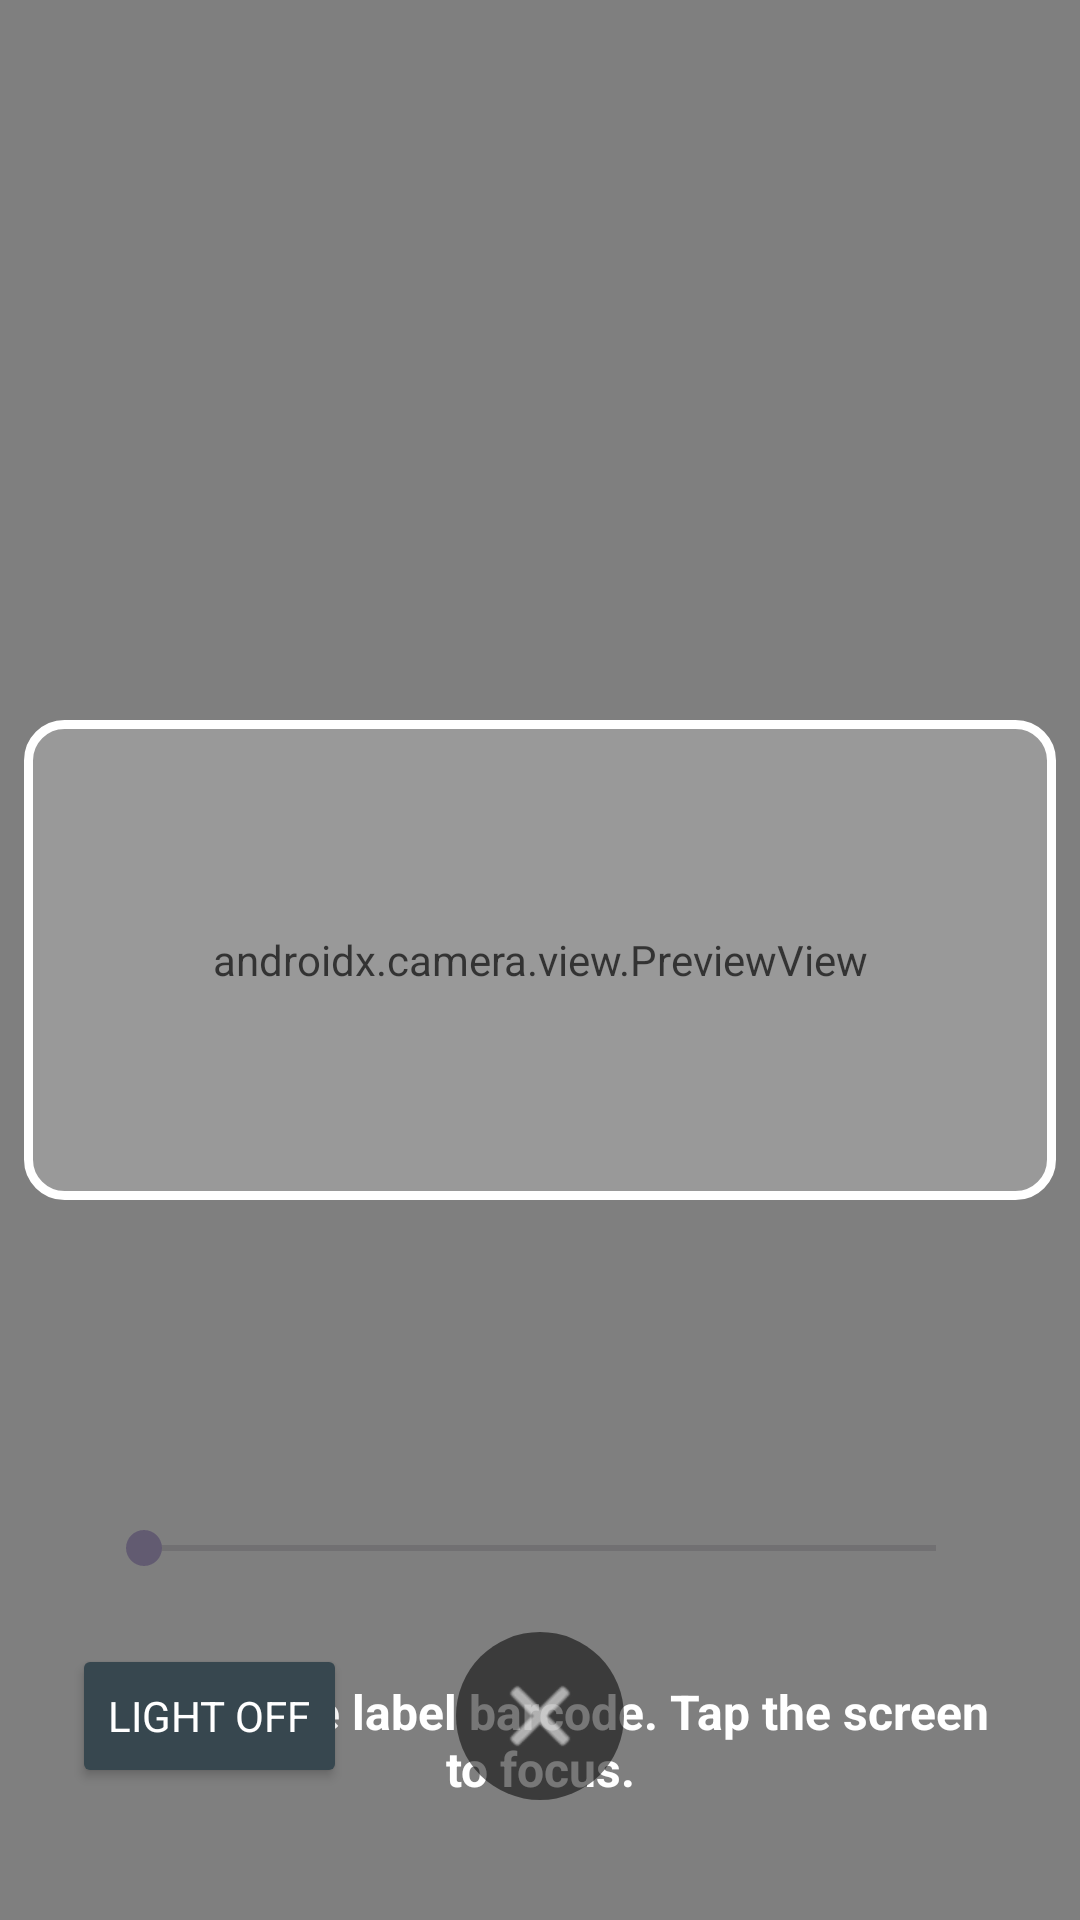

Icon bounding boxes for this 1080 × 1920 phone screenshot, format (x1,y1,x2,y2):
Cancel scan: (456,1632,624,1800)
